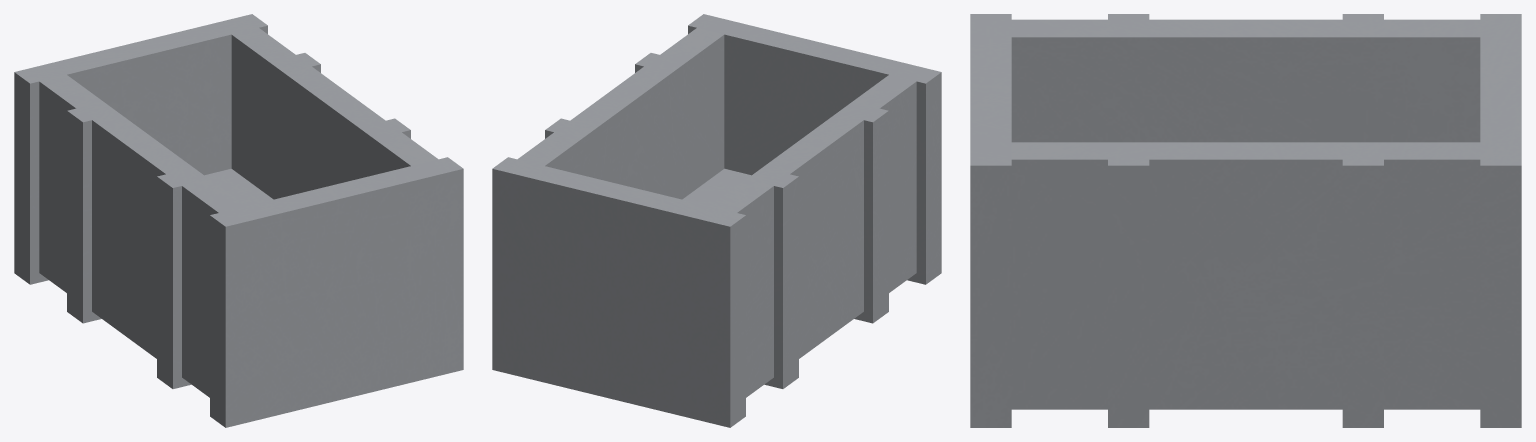
The model's file is chest_01.fbx.
3 views of the same model, side by side, from view 1: azimuth 30°, elevation 25°; view 2: azimuth 150°, elevation 25°; view 3: azimuth 270°, elevation 25° (orthographic). The views are drawn at different scales.
Parts seen in each view (by area): view 1: chest; view 2: chest; view 3: chest.
Boxes of the visible parts, x1,y1,x2,y2 form: chest: [14, 14, 463, 427]; chest: [492, 14, 941, 427]; chest: [970, 14, 1521, 427].
Bounding box in the file's own units: 130 × 105 × 200.
